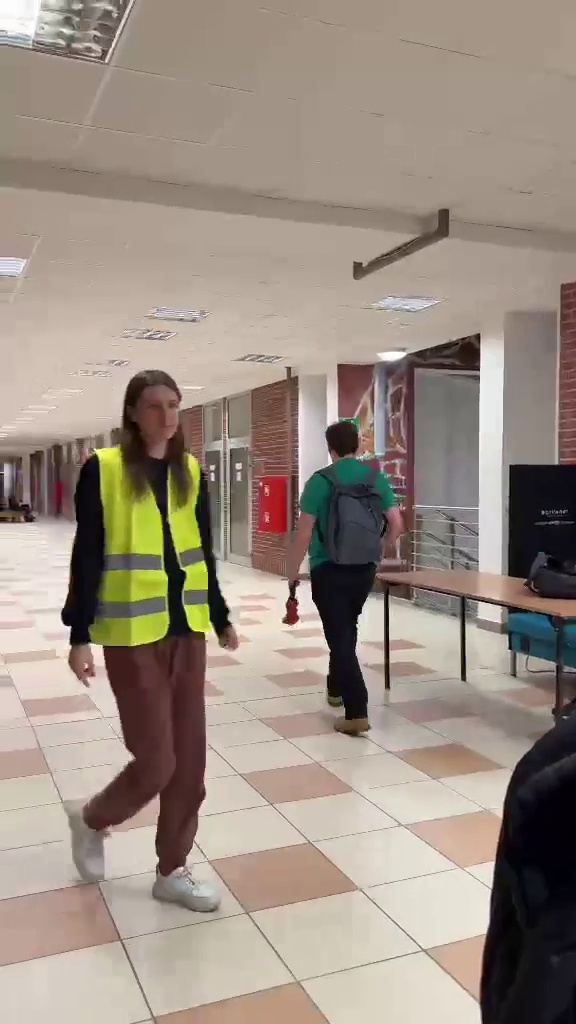no vest: (292, 416, 410, 732)
vest: (57, 360, 244, 915)
